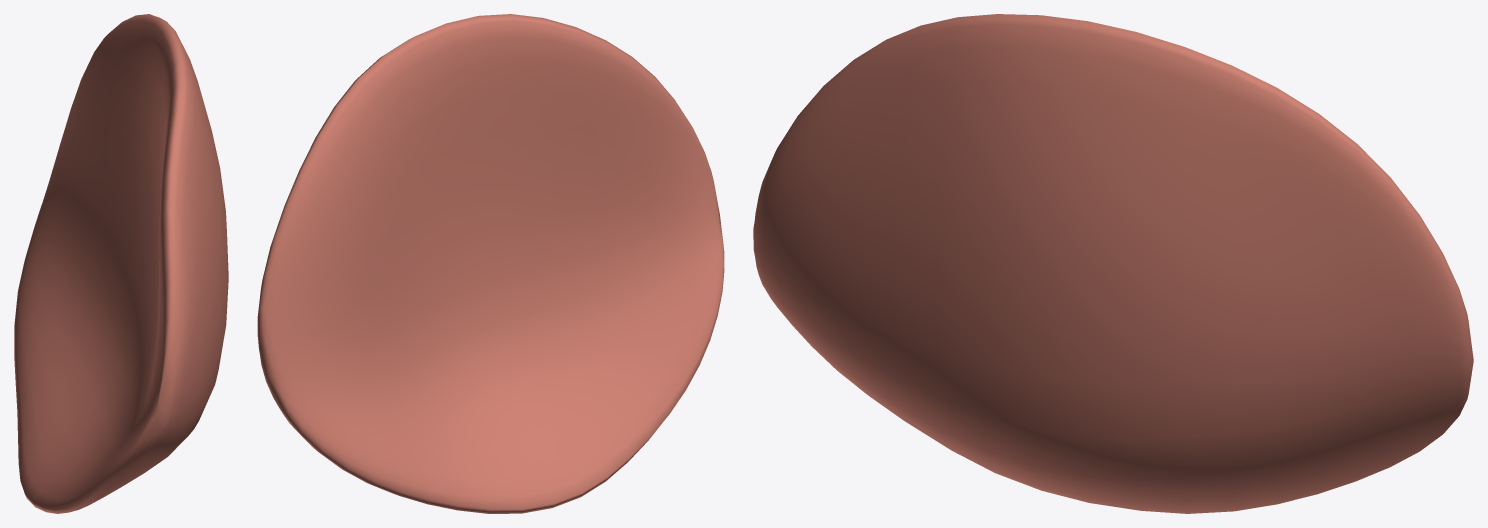
3 renders of one model, left to right at view 1: azimuth 30°, elevation 25°; view 2: azimuth 150°, elevation 25°; view 3: azimuth 270°, elevation 25°, orthographic. The views are drawn at different scales.
Visible parts, largest first — view 1: 左侧三角肌下囊; view 2: 左侧三角肌下囊; view 3: 左侧三角肌下囊.
Part boxes in pixels (box(x1,y1,x2,y2)): 左侧三角肌下囊: box(14, 14, 228, 513); 左侧三角肌下囊: box(257, 14, 724, 513); 左侧三角肌下囊: box(753, 14, 1473, 513).
Bounding box in the file's own units: 0.0199 × 0.0366 × 0.0426.
